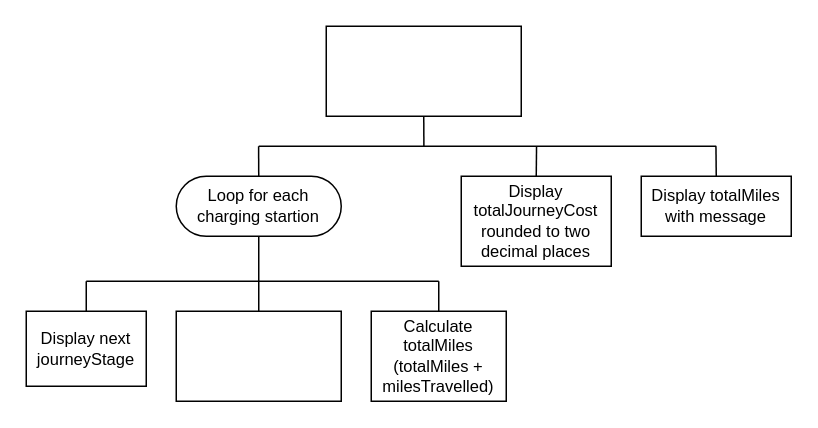
Some shapes in this 818 by 428 pixel diagram are drawn without their labels. Here are the shapes that lost their labels. From the top down, the centre of each, then its label:
At (x=423, y=70): "Display toral miles, journey stage costs and total cost".
At (x=258, y=355): "Calculate totalJourneyCost (totalJourneyCost + journeyStage)".
